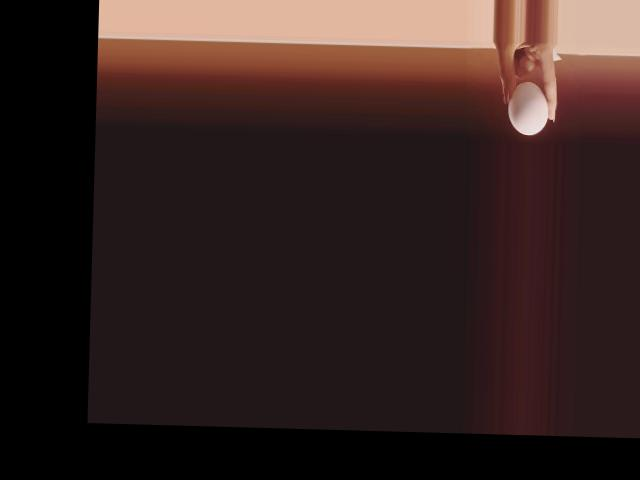egg: (506, 80, 549, 135)
